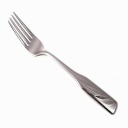fork: (6, 10, 122, 121)
